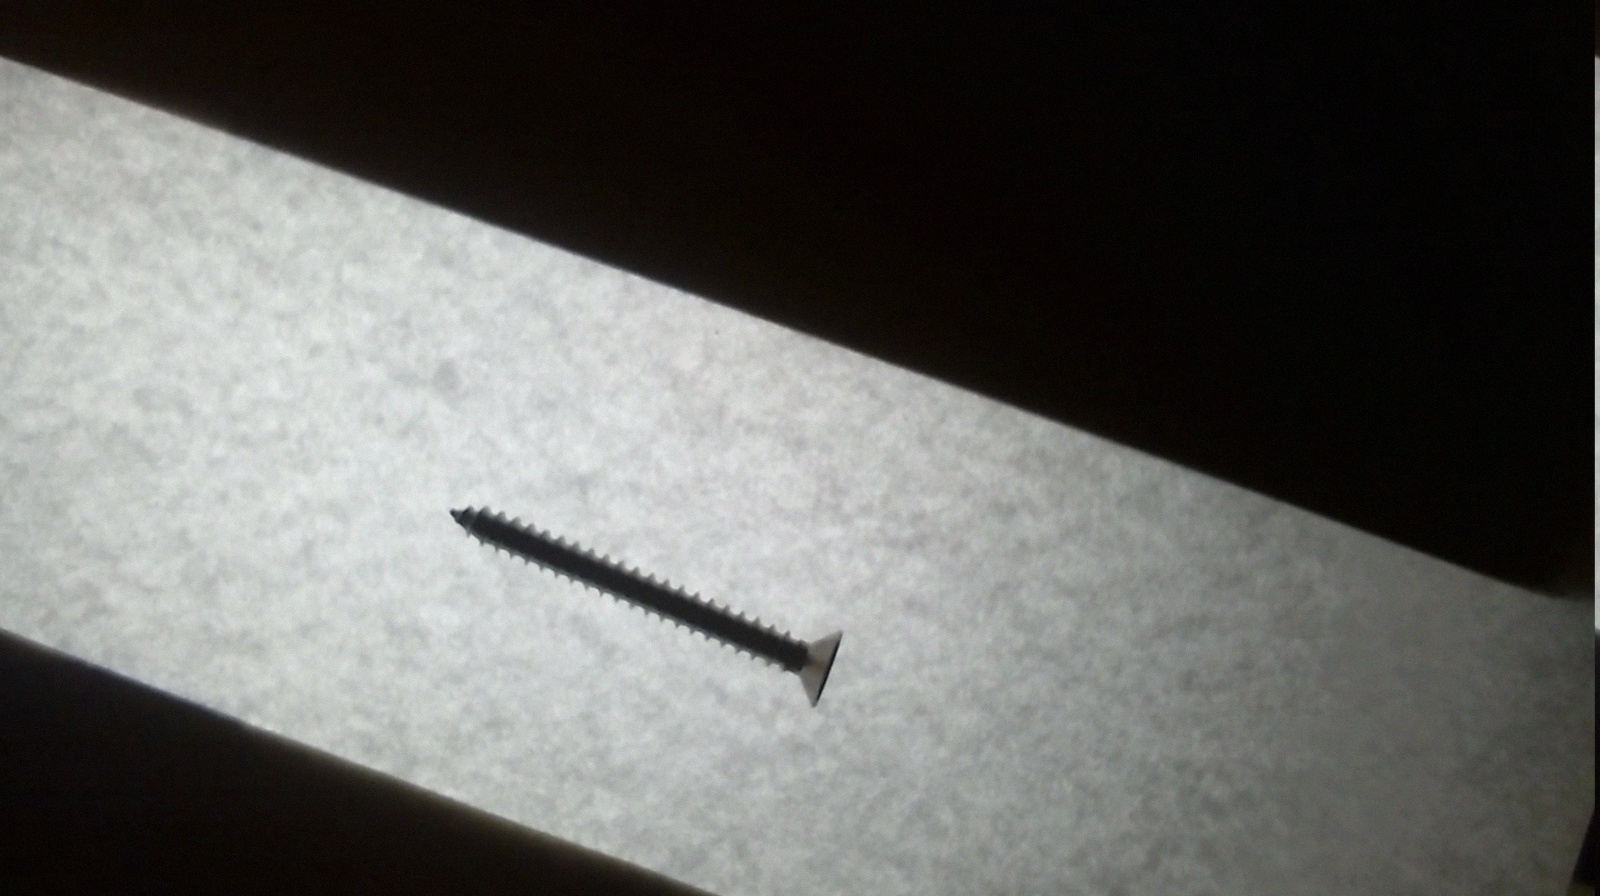S002: (422, 484, 864, 724)
